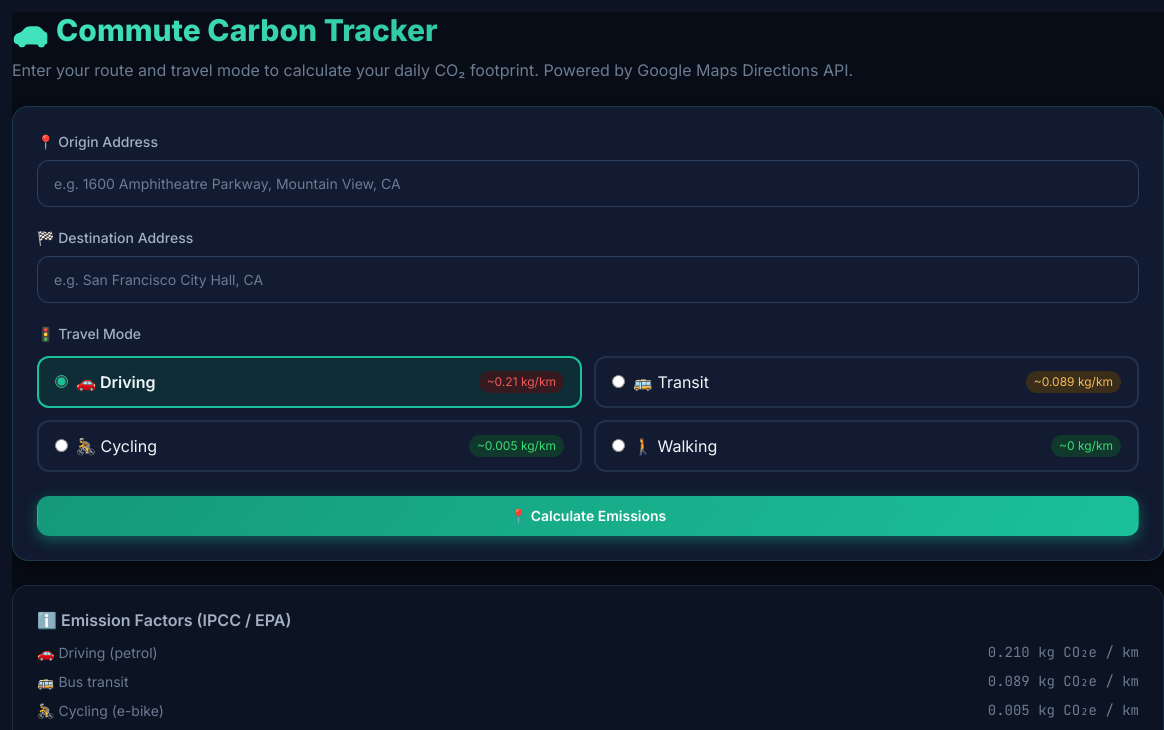
Test: CommutePage › shows API error message on Maps calculation failure
Type "Start Point" into the field labelled "📍 Origin Address" at (588, 183), box x1=37 y1=160 x2=1139 y2=206
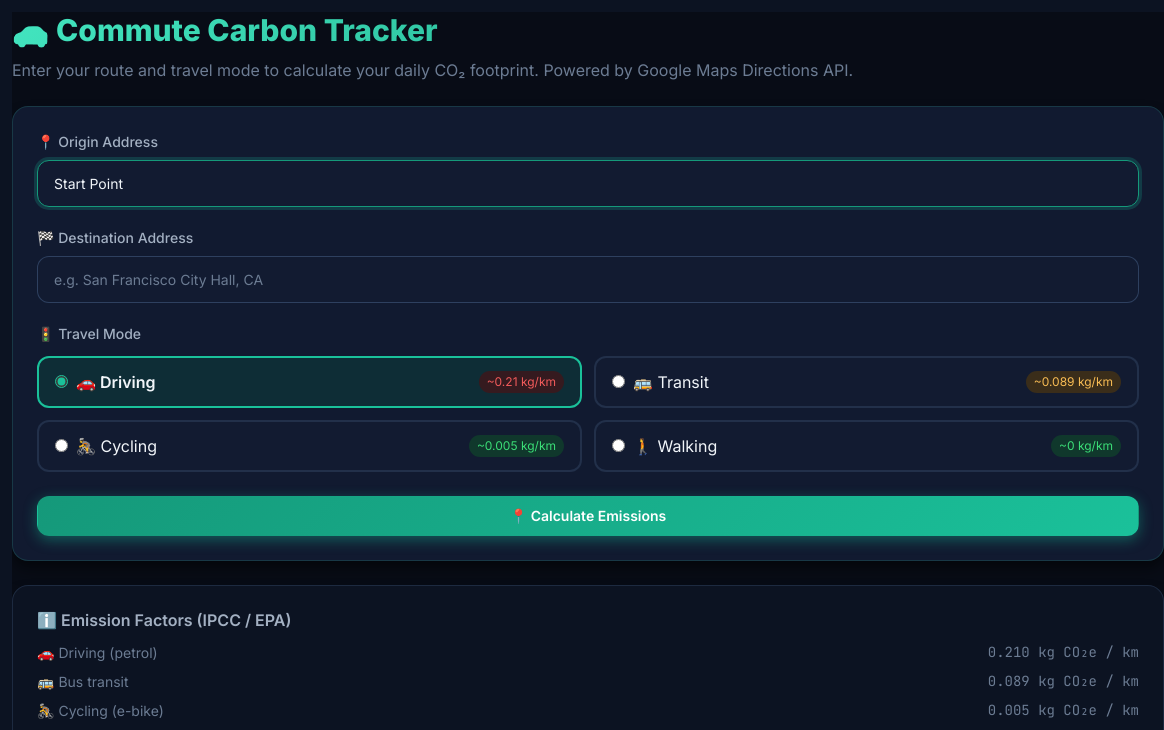
Type "End Point" into the field labelled "🏁 Destination Address" at (588, 279), box x1=37 y1=256 x2=1139 y2=302
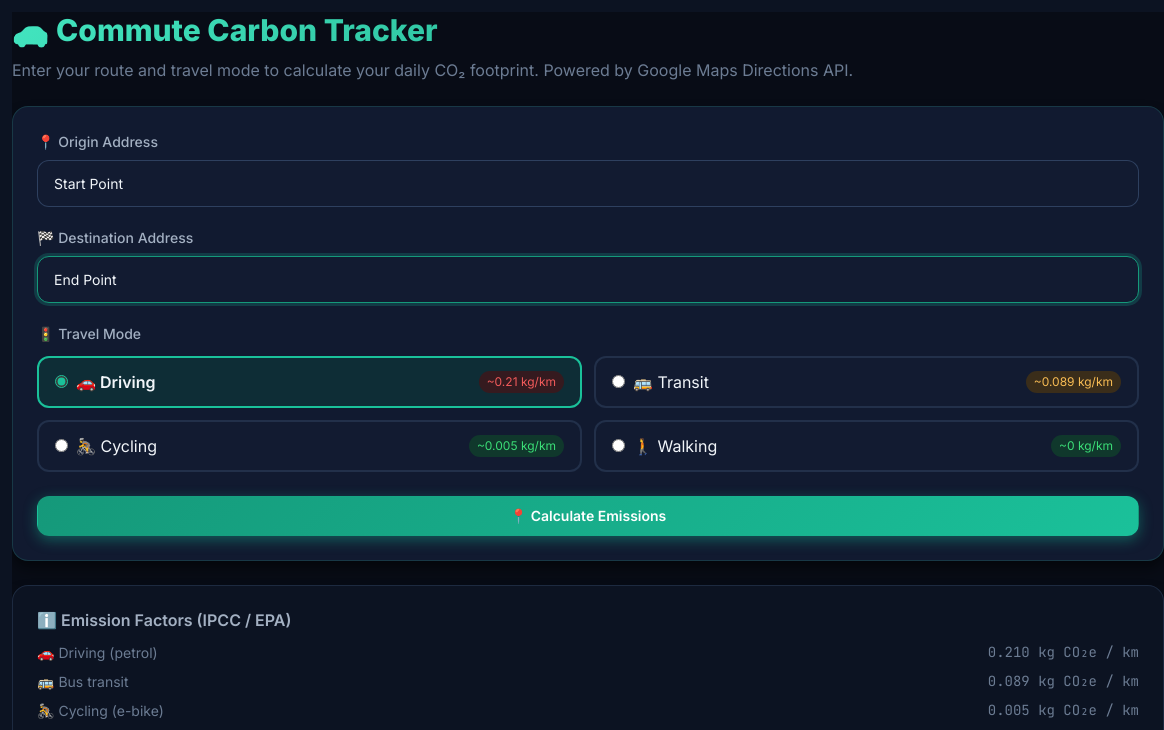
Click the button "📍 Calculate Emissions" at (588, 516), box x1=37 y1=496 x2=1139 y2=536
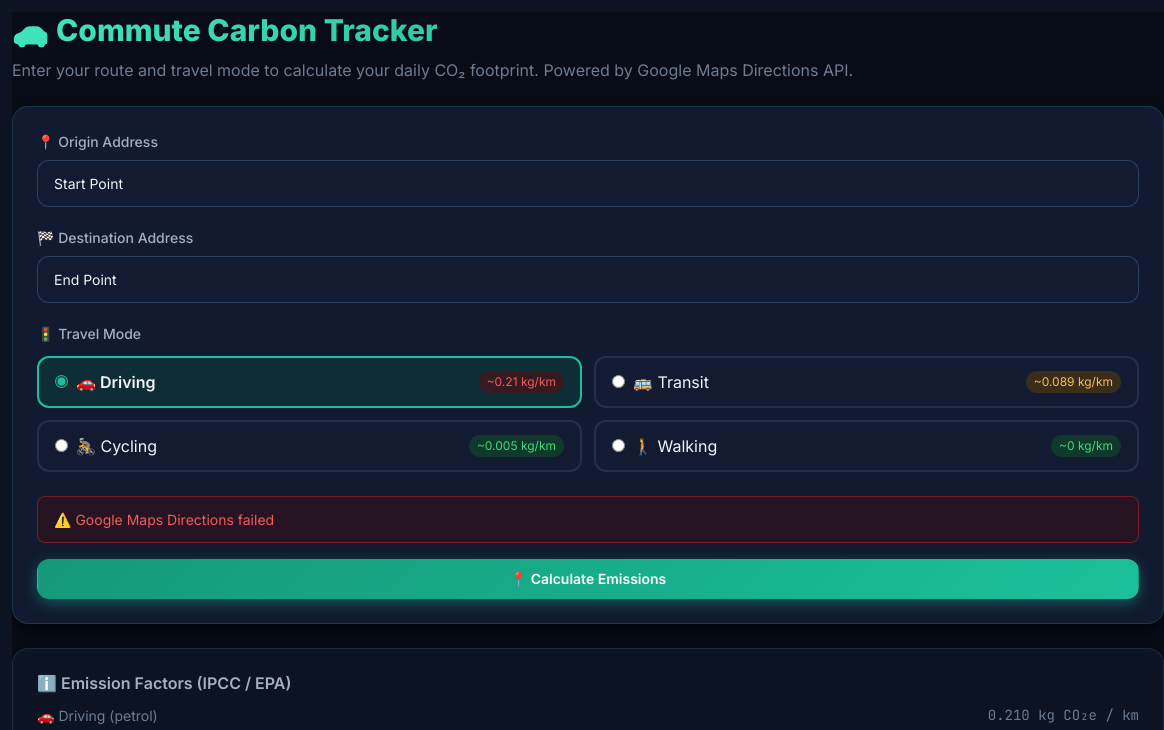
Check: the message shows "Google Maps Directions failed", box x1=75 y1=510 x2=274 y2=528
